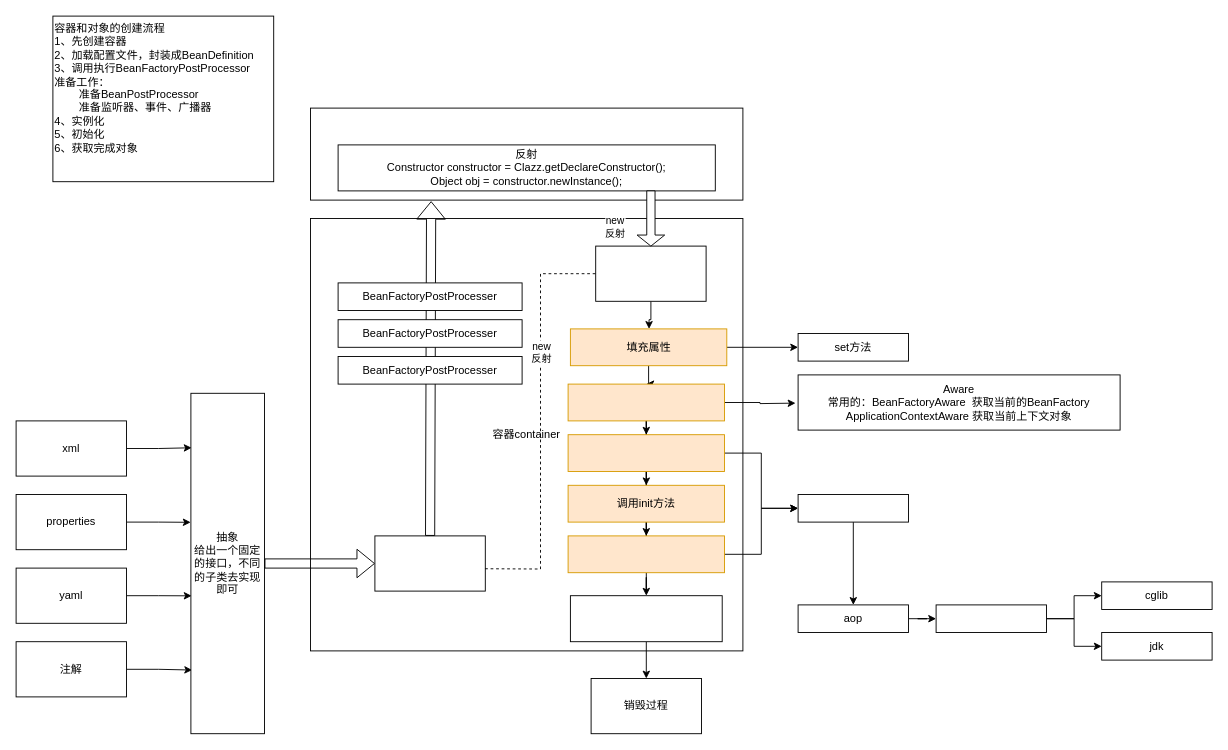
Some shapes in this 1228 by 750 pixel diagram are drawn without their labels. Each missing label, with the box of its shape:
after: (567, 535, 724, 573)
BeanDefiniion bean的定义信息: (374, 535, 485, 591)
BeanFactory: (310, 107, 743, 200)
BeanPostProcessor: (797, 494, 908, 522)
before: (567, 434, 724, 472)
动态代理: (935, 604, 1046, 632)
完成的对象 可以直接使用: (569, 595, 722, 642)
实例化: (595, 245, 706, 301)
调用aware接口的方法: (567, 383, 724, 421)
